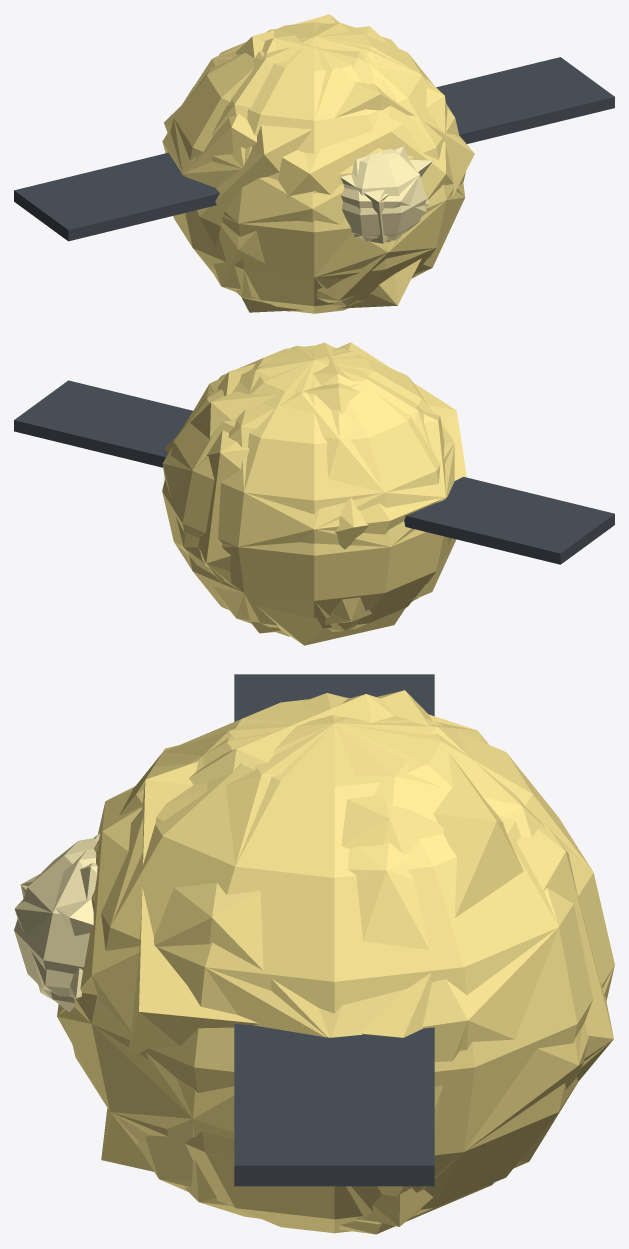
File: SM_Bomber.fbx
3 renders of one model, top to bottom at view 1: azimuth 30°, elevation 25°; view 2: azimuth 150°, elevation 25°; view 3: azimuth 270°, elevation 25°, orthographic. The views are drawn at different scales.
Visible parts, largest first — view 1: SM_Bomber, LOD1_SM_Bomber, LOD2_SM_Bomber, LOD3_SM_Bomber; view 2: SM_Bomber, LOD1_SM_Bomber, LOD2_SM_Bomber, LOD3_SM_Bomber; view 3: SM_Bomber, LOD1_SM_Bomber, LOD2_SM_Bomber, LOD3_SM_Bomber.
Part boxes in pixels (bbox=[...]): SM_Bomber: bbox=[14, 22, 614, 313]; LOD1_SM_Bomber: bbox=[165, 22, 464, 313]; LOD2_SM_Bomber: bbox=[162, 26, 464, 311]; LOD3_SM_Bomber: bbox=[164, 14, 474, 312]; SM_Bomber: bbox=[14, 345, 614, 629]; LOD1_SM_Bomber: bbox=[162, 346, 454, 636]; LOD2_SM_Bomber: bbox=[198, 342, 456, 633]; LOD3_SM_Bomber: bbox=[164, 342, 466, 645]; SM_Bomber: bbox=[14, 674, 614, 1233]; LOD1_SM_Bomber: bbox=[14, 693, 614, 1224]; LOD2_SM_Bomber: bbox=[20, 694, 613, 1234]; LOD3_SM_Bomber: bbox=[21, 690, 611, 1226].
Bounding box in the file's own units: 0.522 × 0.2397 × 0.27.
